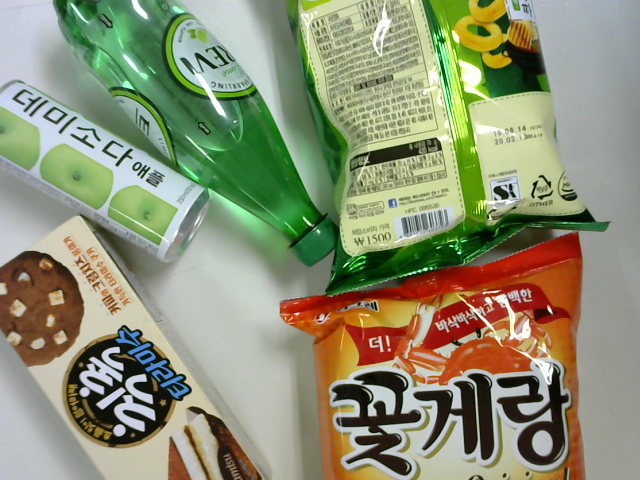Chicchok_Tiramisu: (3, 218, 268, 480)
Crabrang: (285, 232, 581, 480)
Demisoda_Apple_Can_250ml: (1, 80, 219, 264)
Grilled_Onions: (283, 8, 613, 288)
Treviraim_500ml: (55, 8, 337, 270)
